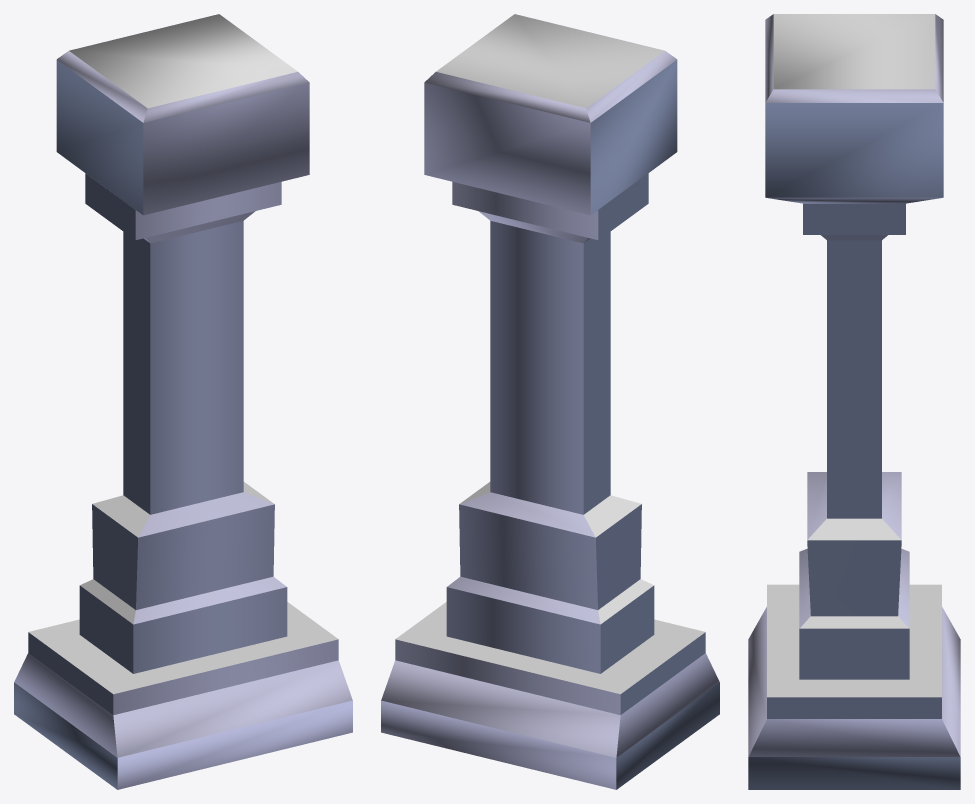
File: Prop_Ballustrade_End.fbx
3 views of the same model, side by side, from view 1: azimuth 30°, elevation 25°; view 2: azimuth 150°, elevation 25°; view 3: azimuth 270°, elevation 25° (orthographic). The views are drawn at different scales.
Visible parts, largest first — view 1: Ballustrade_End; view 2: Ballustrade_End; view 3: Ballustrade_End.
Boxes of the visible parts, left/top/right/bottom form: Ballustrade_End: left=14, top=14, right=352, bottom=789; Ballustrade_End: left=381, top=14, right=719, bottom=789; Ballustrade_End: left=748, top=14, right=960, bottom=789.
Bounding box in the file's own units: 113 × 303 × 85.7.
